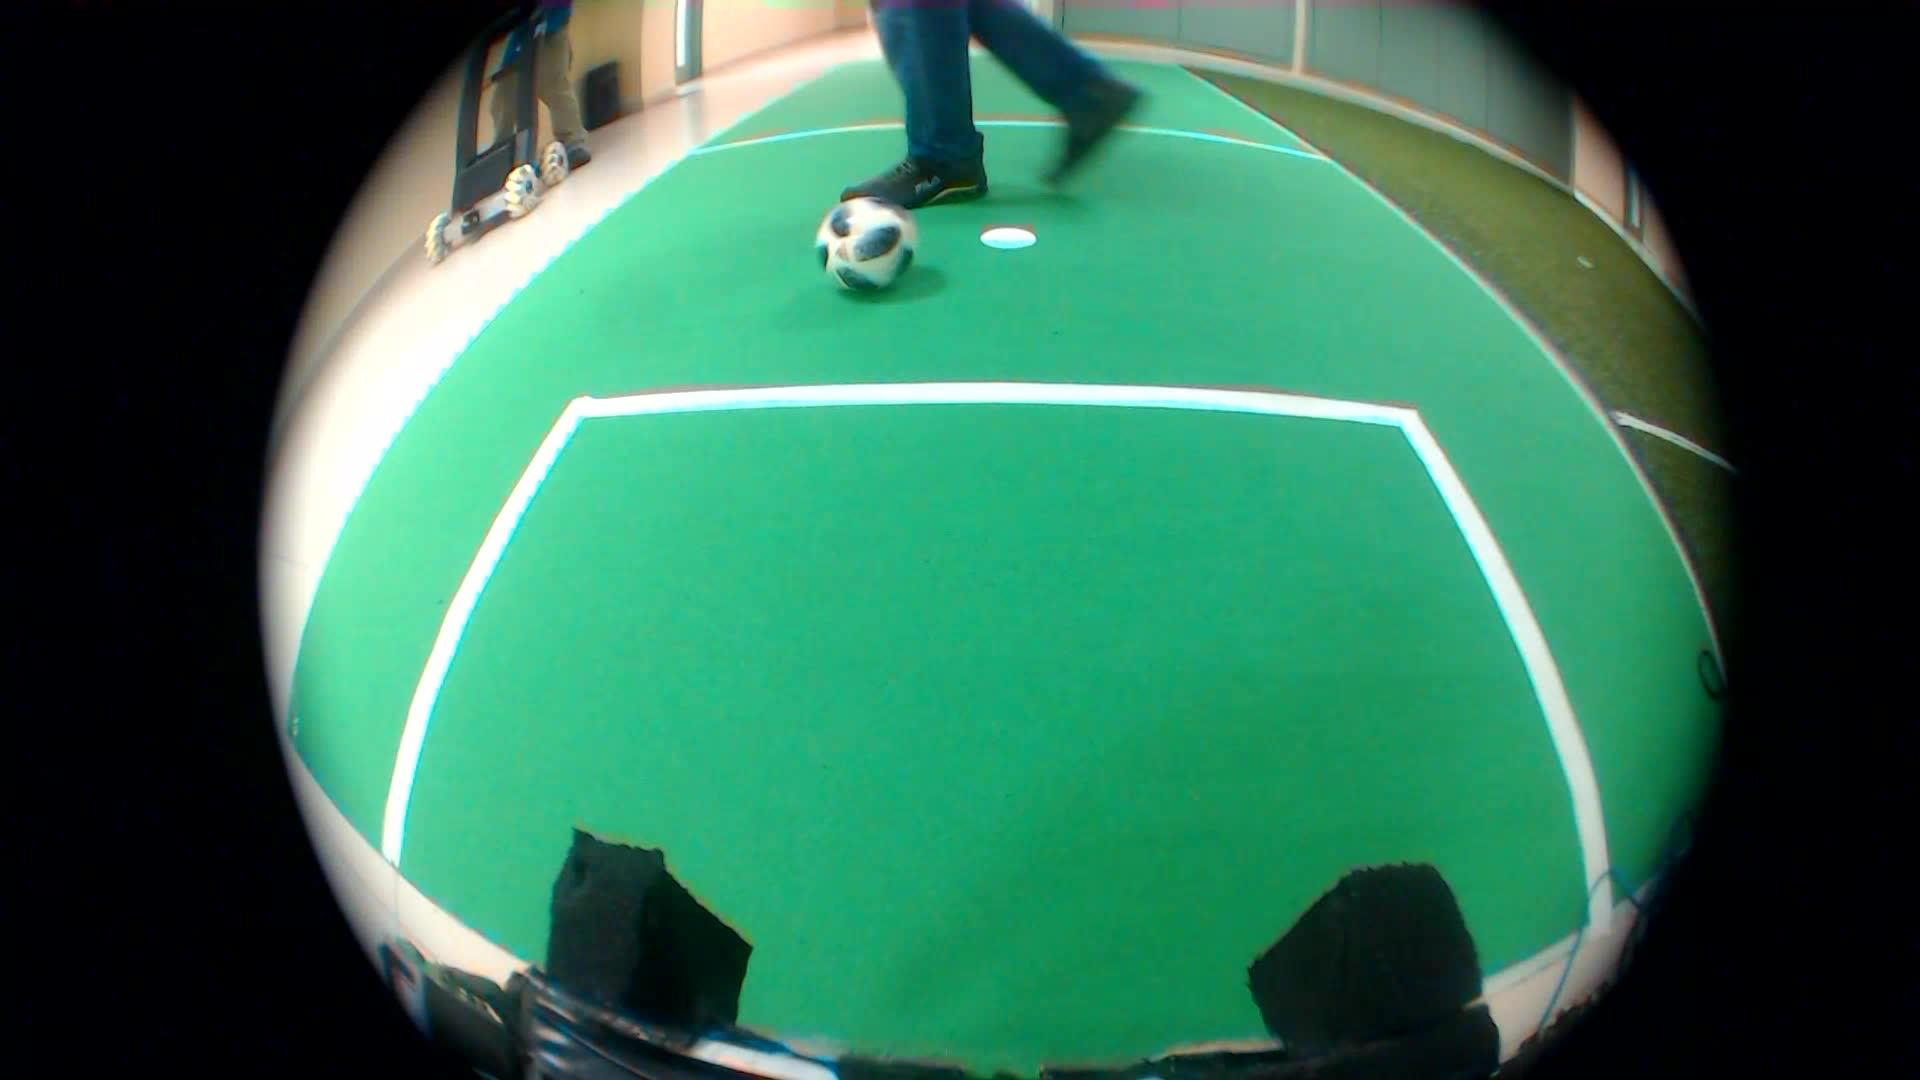ball: (810, 189, 927, 302)
